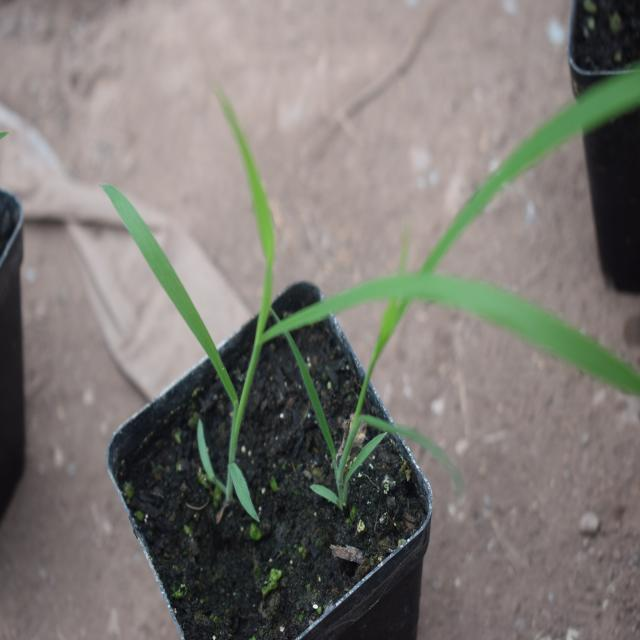crabgrass: (97, 102, 627, 413)
